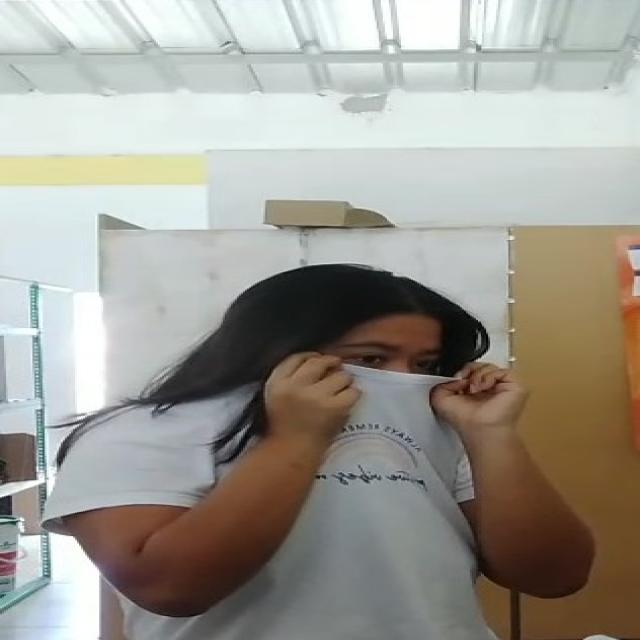8_ropa_rostro: (266, 351, 534, 487)
